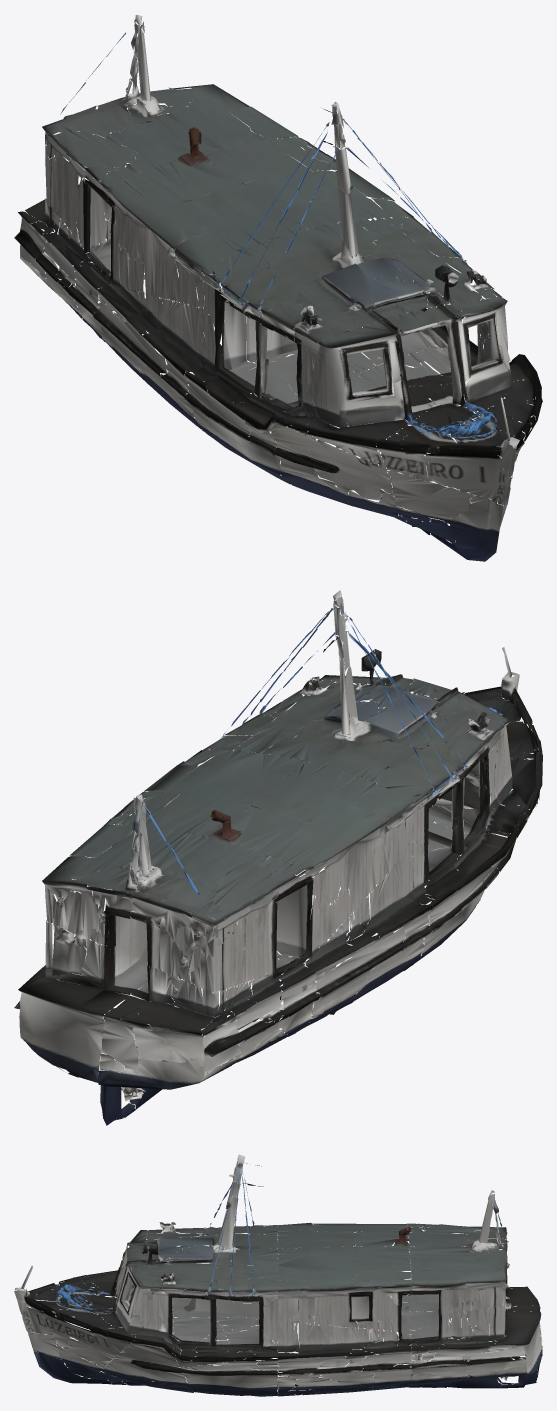
The model's file is luzeiro_c.glb.
3 views of the same model, one above another, from view 1: azimuth 30°, elevation 25°; view 2: azimuth 150°, elevation 25°; view 3: azimuth 270°, elevation 25° (orthographic). The views are drawn at different scales.
Parts seen in each view (by area): view 1: tripo_node_a9f6e284-f70d-4e98-a607-a2170e1208ba; view 2: tripo_node_a9f6e284-f70d-4e98-a607-a2170e1208ba; view 3: tripo_node_a9f6e284-f70d-4e98-a607-a2170e1208ba.
Boxes of the visible parts, x1=… form: tripo_node_a9f6e284-f70d-4e98-a607-a2170e1208ba: x1=14, y1=15, x2=542, y2=561; tripo_node_a9f6e284-f70d-4e98-a607-a2170e1208ba: x1=14, y1=590, x2=542, y2=1125; tripo_node_a9f6e284-f70d-4e98-a607-a2170e1208ba: x1=14, y1=1154, x2=542, y2=1396.
Bounding box in the file's own units: 5.28 × 7.3 × 14.99.
Materials: 1 (1 with a texture image).
